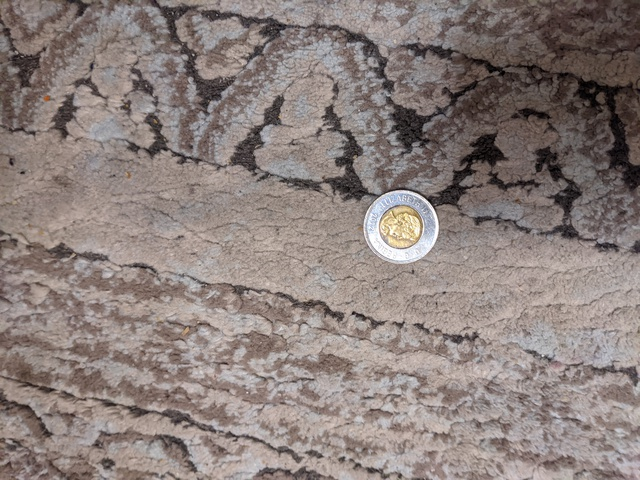twonie: (351, 179, 446, 265)
